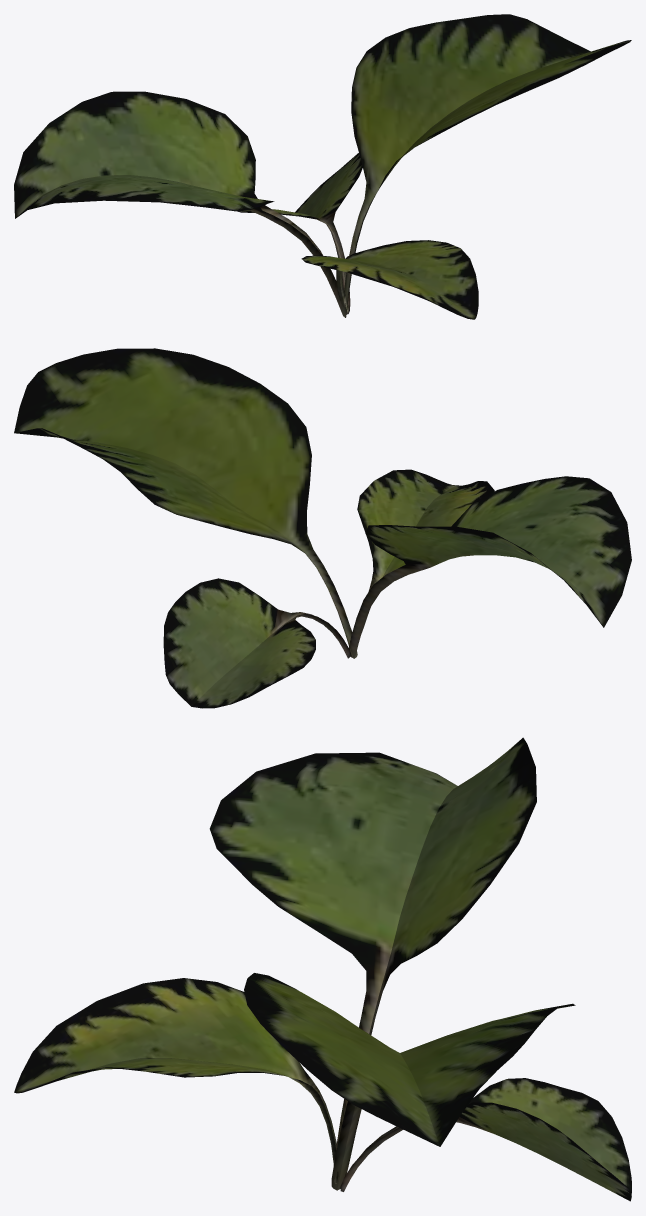
Rendered from nettle_plant.glb.
The picture shows the model from 3 angles, top to bottom: view 1: azimuth 30°, elevation 25°; view 2: azimuth 150°, elevation 25°; view 3: azimuth 270°, elevation 25°; orthographic projection. The views are drawn at different scales.
Parts seen in each view (by area): view 1: nettle_plant_small_b_LOD0; view 2: nettle_plant_small_b_LOD0; view 3: nettle_plant_small_b_LOD0.
Boxes of the visible parts, left/top/right/bottom form: nettle_plant_small_b_LOD0: left=14, top=14, right=631, bottom=319; nettle_plant_small_b_LOD0: left=14, top=348, right=631, bottom=708; nettle_plant_small_b_LOD0: left=14, top=737, right=631, bottom=1201.
Size of the model in its own units: 0.0597 by 0.0217 by 0.0385.
Materials: 1 (1 with a texture image).
